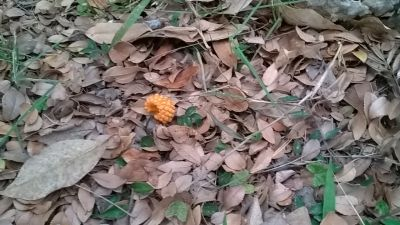eggs: (143, 93, 176, 124)
